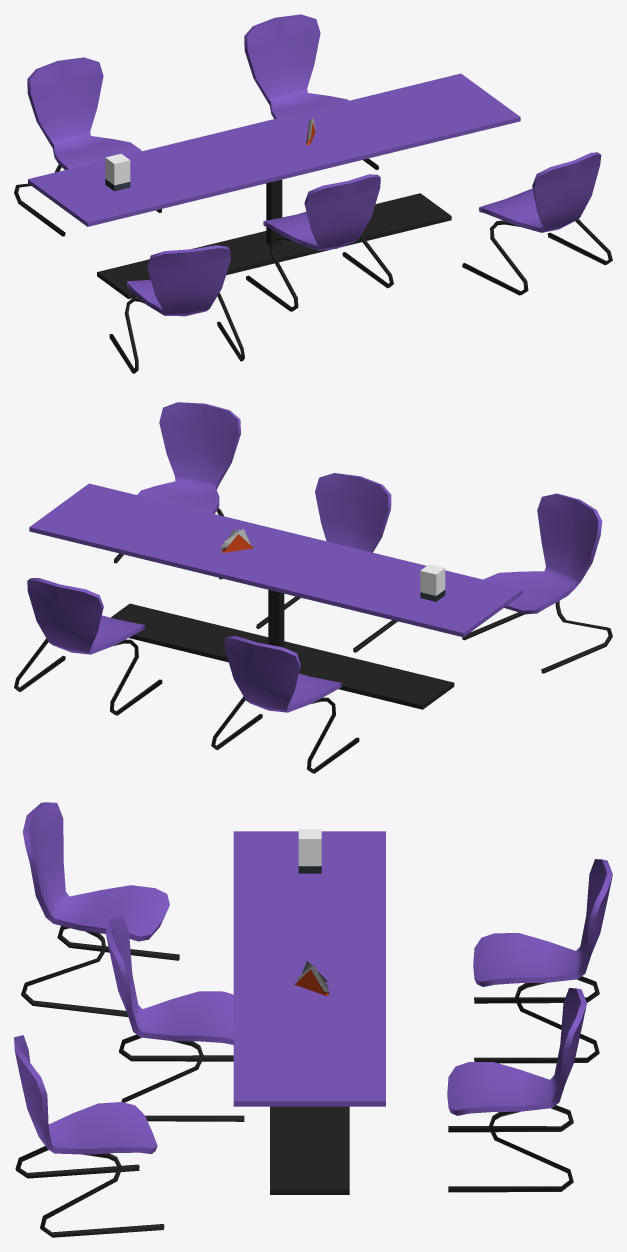
Rendered from M_canzhuo04.FBX.
The picture shows the model from 3 angles, top to bottom: view 1: azimuth 30°, elevation 25°; view 2: azimuth 150°, elevation 25°; view 3: azimuth 270°, elevation 25°; orthographic projection. The views are drawn at different scales.
Visible parts, largest first — view 1: M_canzhuo04_01, M_canzhuo04_02, M_canzhuo04_03; view 2: M_canzhuo04_01, M_canzhuo04_02, M_canzhuo04_03; view 3: M_canzhuo04_01, M_canzhuo04_02, M_canzhuo04_03.
Part boxes in pixels (x1,y1,x2,y2): M_canzhuo04_01: [27, 14, 601, 316]; M_canzhuo04_02: [14, 158, 612, 373]; M_canzhuo04_03: [105, 153, 130, 185]; M_canzhuo04_01: [27, 402, 602, 712]; M_canzhuo04_02: [14, 508, 612, 773]; M_canzhuo04_03: [420, 564, 445, 595]; M_canzhuo04_01: [14, 802, 612, 1154]; M_canzhuo04_02: [15, 866, 599, 1237]; M_canzhuo04_03: [298, 829, 321, 866].
Size of the model in its own units: 4.35 by 1.12 by 3.75.
